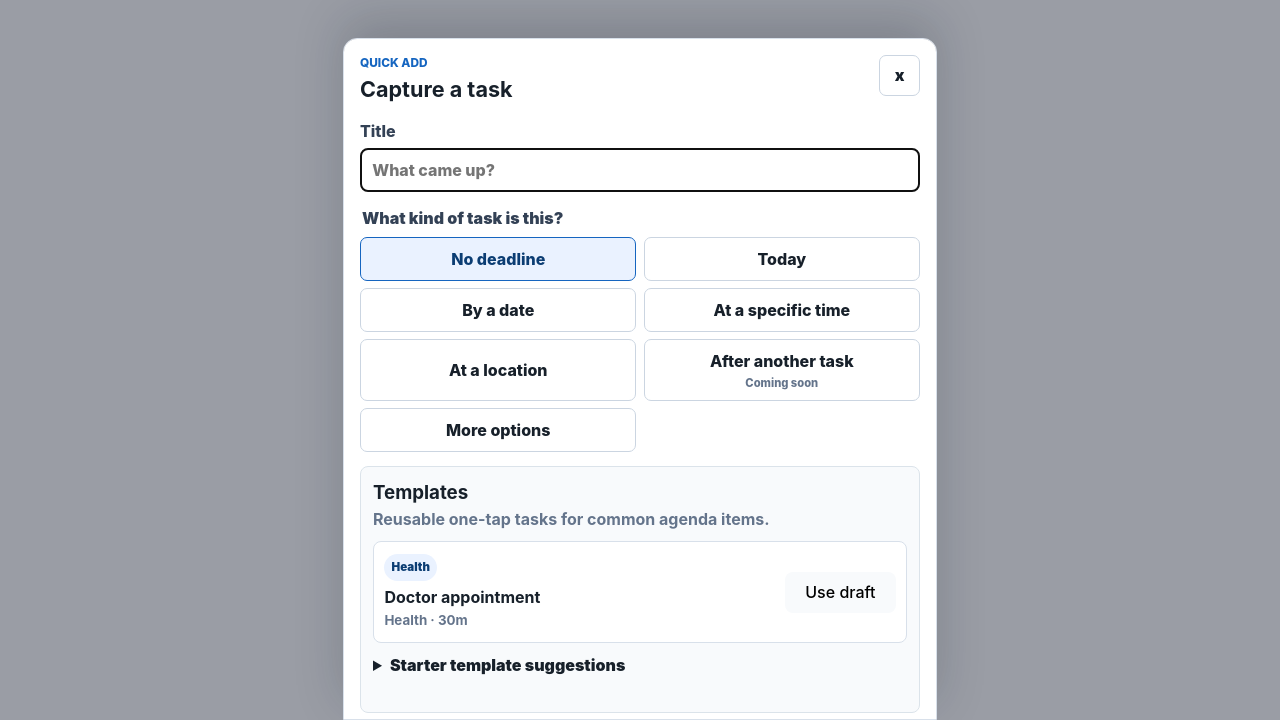
Test: QuickAddTaskSheet › fixed template is not one-click scheduled and becomes a draft
expect the text "Doctor appointment" is shown: met, box [384, 587, 540, 607]
Click the button "Use draft".
click(840, 592)  # box [785, 572, 896, 613]
(page scrolled)
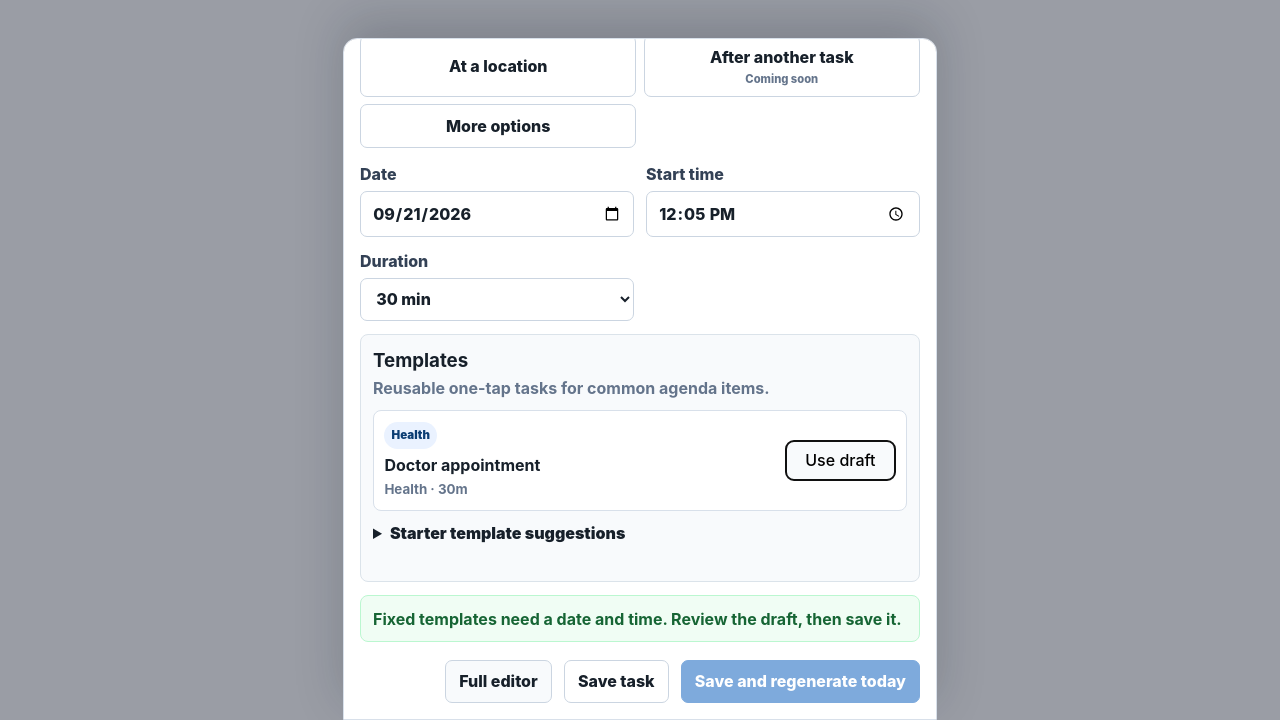
expect the text "Fixed templates need a date and time" is shown: met, box [373, 609, 902, 629]
